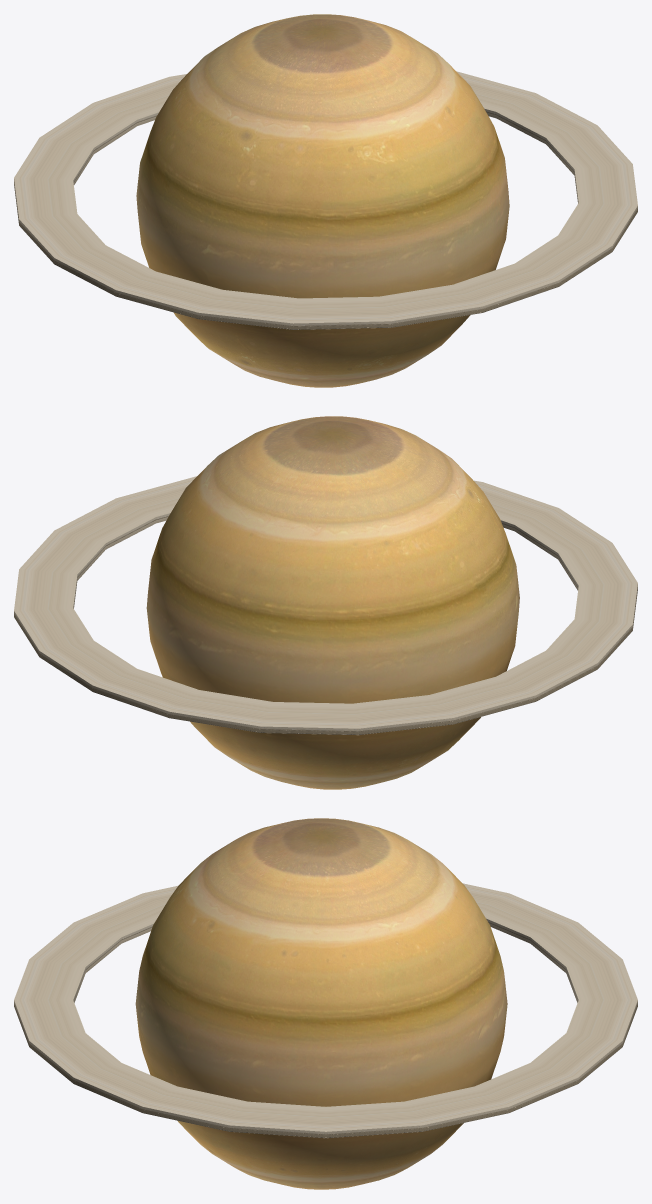
File: tuxing.obj
The picture shows the model from 3 angles, top to bottom: view 1: azimuth 30°, elevation 25°; view 2: azimuth 150°, elevation 25°; view 3: azimuth 270°, elevation 25°; orthographic projection.
Parts seen in each view (by area): view 1: Sphere001, Tube001; view 2: Sphere001, Tube001; view 3: Sphere001, Tube001.
Boxes of the visible parts, bbox=[...] form: Sphere001: bbox=[136, 14, 509, 387]; Tube001: bbox=[14, 71, 637, 329]; Sphere001: bbox=[146, 416, 519, 789]; Tube001: bbox=[14, 476, 637, 735]; Sphere001: bbox=[135, 818, 507, 1189]; Tube001: bbox=[14, 883, 637, 1138].
Bounding box in the file's own units: 184 × 110 × 184.
2 materials, 2 textured.
